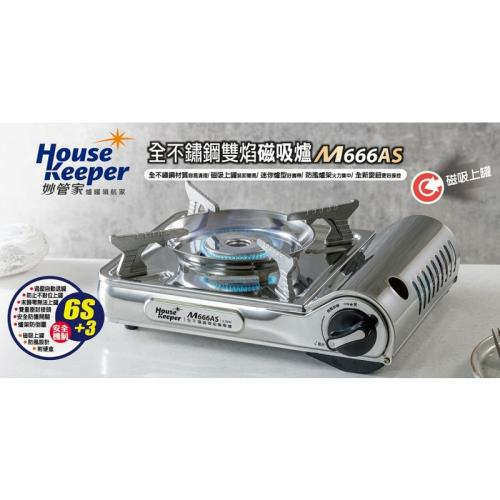gasoven: (96, 177, 460, 376)
